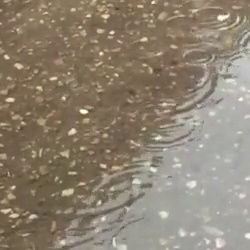drop: (128, 98, 201, 152), (193, 7, 240, 31), (164, 15, 197, 39), (133, 35, 164, 60), (182, 48, 215, 67), (64, 77, 79, 90)
